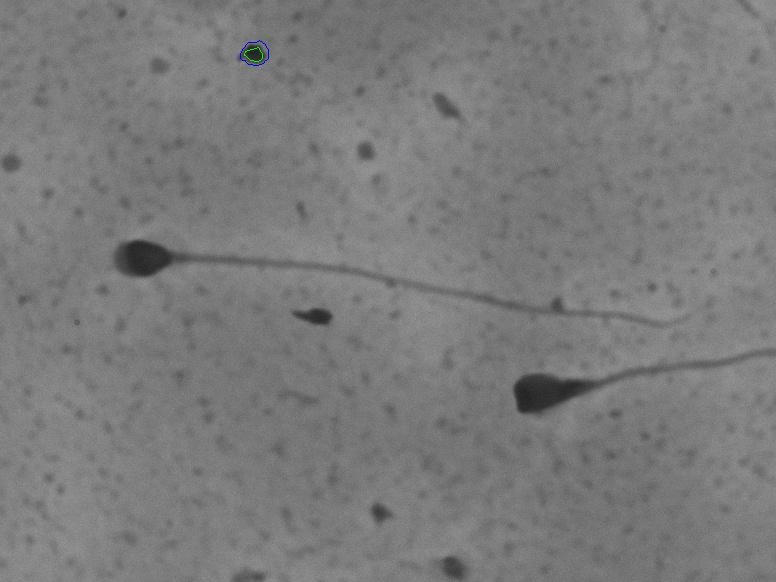Abnormal: (504, 311, 752, 469)
Normal: (72, 193, 725, 342)
